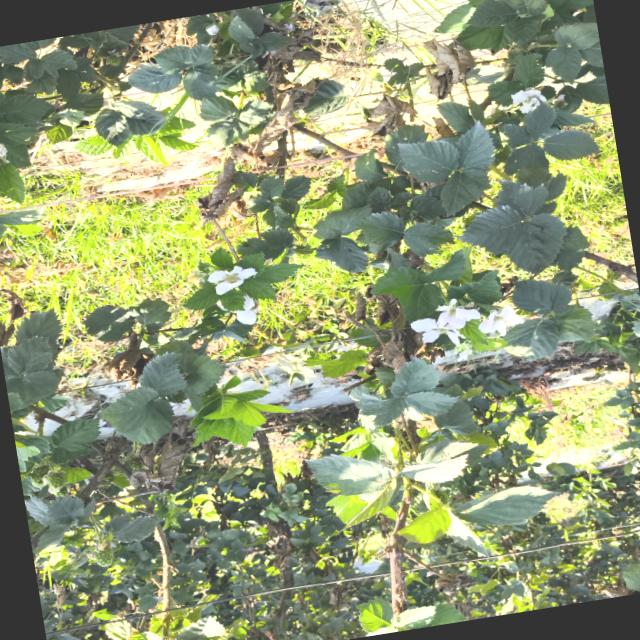flor: (208, 265, 258, 295), (436, 299, 481, 330), (479, 306, 525, 336), (412, 318, 460, 345), (512, 89, 546, 114), (234, 295, 258, 325)
